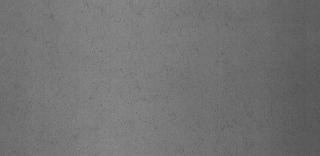silk spot: (80, 7, 250, 89)
